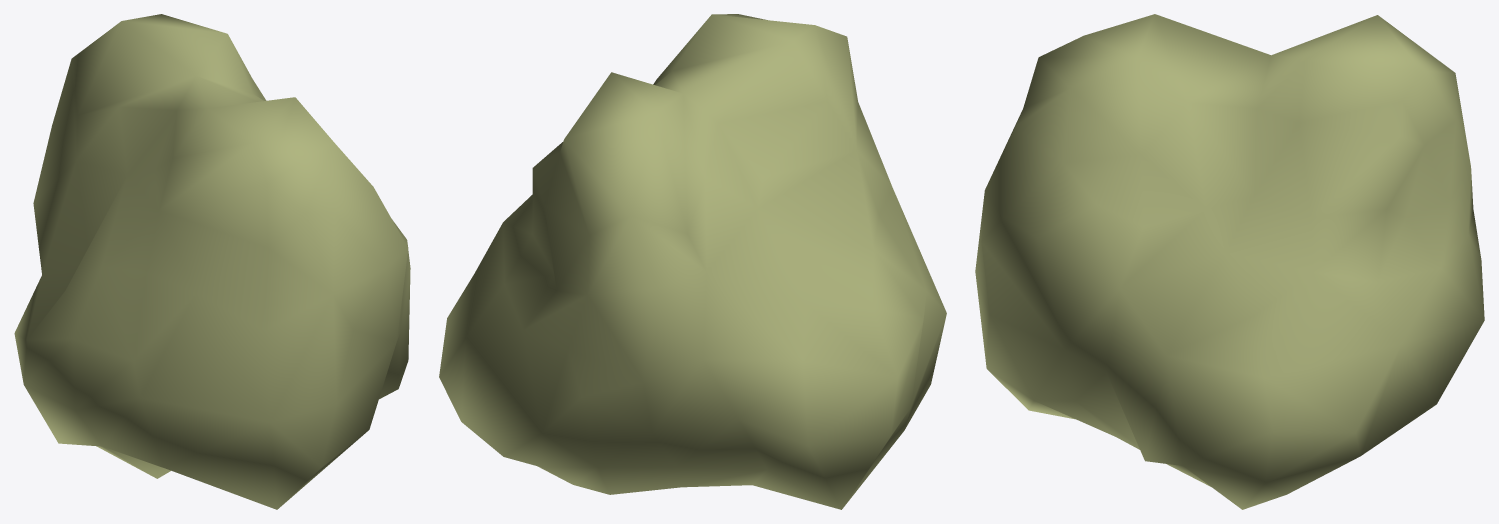
The model's file is Stone04.fbx.
The picture shows the model from 3 angles, left to right: view 1: azimuth 30°, elevation 25°; view 2: azimuth 150°, elevation 25°; view 3: azimuth 270°, elevation 25°; orthographic projection. The views are drawn at different scales.
Parts seen in each view (by area): view 1: rock.006; view 2: rock.006; view 3: rock.006.
Part boxes in pixels (bbox=[...]): rock.006: bbox=[14, 14, 410, 509]; rock.006: bbox=[439, 14, 946, 509]; rock.006: bbox=[975, 14, 1484, 509].
Bounding box in the file's own units: 1.09 × 1.06 × 1.16.
